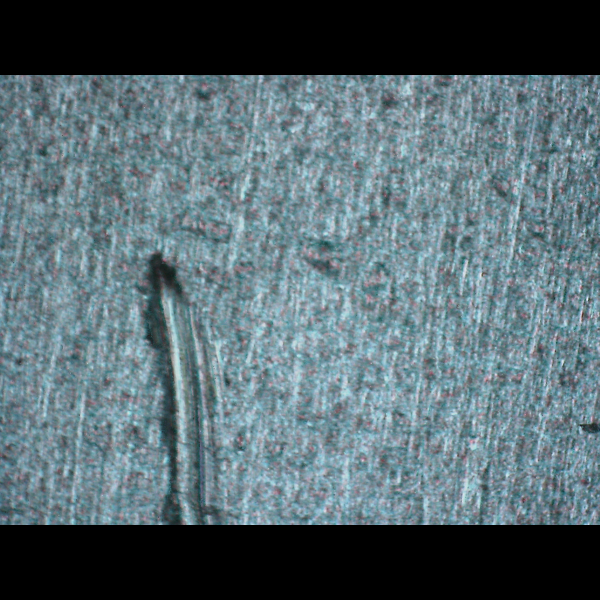d: (140, 250, 235, 524)
